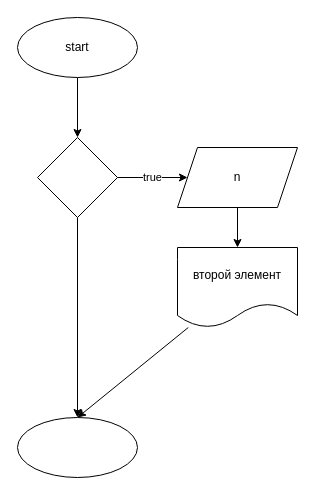
This 315x495 diagram has some shape labels left out. The shapes that lost their labels are listed below. From the top down, each one's box as (x1, y1, x2, y2) in pixels, then its label:
(36, 136, 118, 218): while(true)
(16, 416, 138, 478): stop
